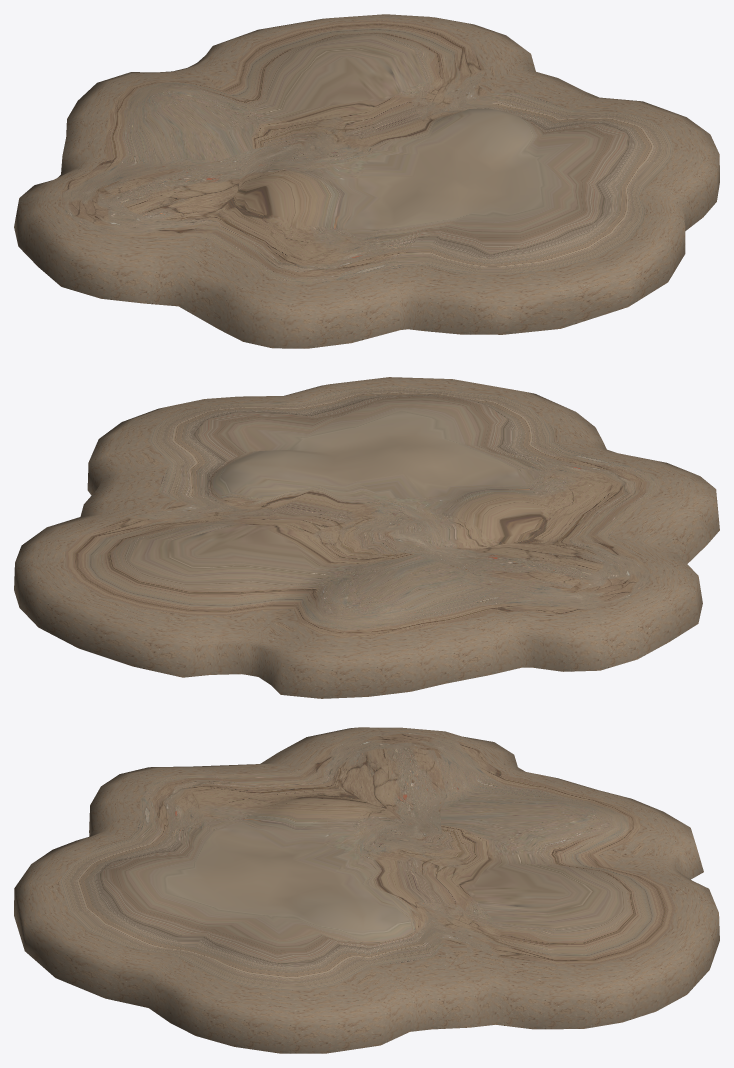
Rendered from saltmine_floor_sand_cracked_01.dae.
The picture shows the model from 3 angles, top to bottom: view 1: azimuth 30°, elevation 25°; view 2: azimuth 150°, elevation 25°; view 3: azimuth 270°, elevation 25°; orthographic projection.
Visible parts, largest first — view 1: floor_01_cracked_sand; view 2: floor_01_cracked_sand; view 3: floor_01_cracked_sand.
Part boxes in pixels (x1,y1,x2,y2): floor_01_cracked_sand: (14,14,719,348); floor_01_cracked_sand: (14,377,719,698); floor_01_cracked_sand: (14,727,719,1053).
Size of the model in its own units: 5.97 by 0.5426 by 5.96.
